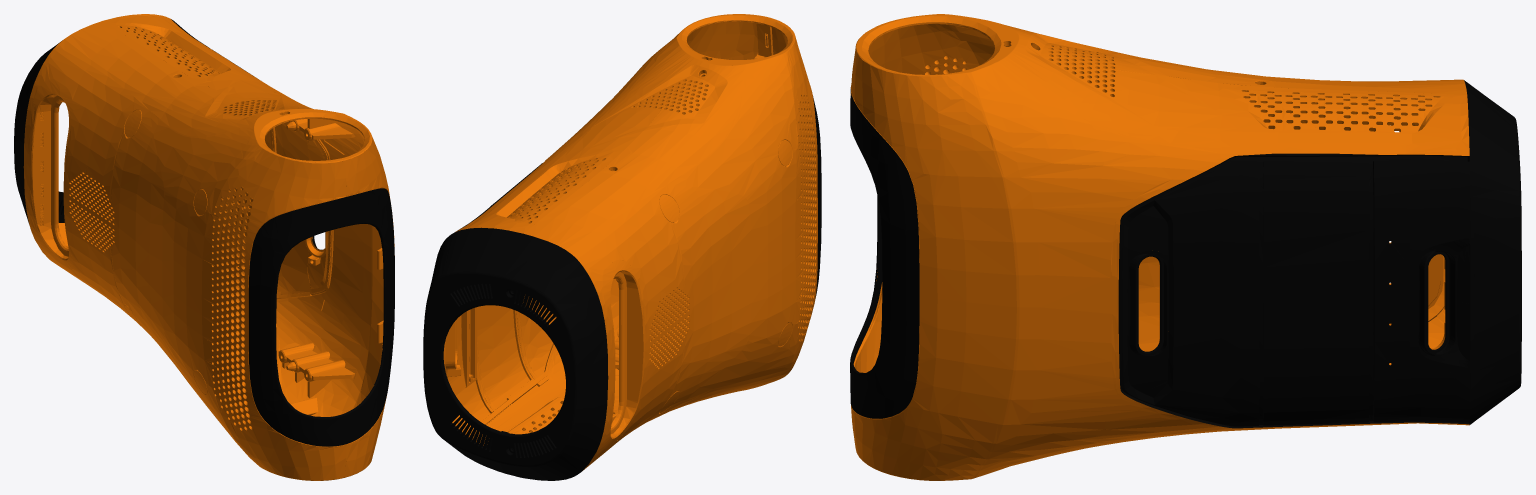
File: torso.glb
The picture shows the model from 3 angles, left to right: view 1: azimuth 30°, elevation 25°; view 2: azimuth 150°, elevation 25°; view 3: azimuth 270°, elevation 25°; orthographic projection. The views are drawn at different scales.
Visible parts, largest first — view 1: torso; view 2: torso, cap3; view 3: torso.
Boxes of the visible parts, left/top/right/bottom form: torso: left=14, top=14, right=394, bottom=480; torso: left=423, top=14, right=821, bottom=480; cap3: left=659, top=194, right=679, bottom=222; torso: left=850, top=14, right=1521, bottom=480.
Size of the model in its own units: 0.208 by 0.3525 by 0.5246.
